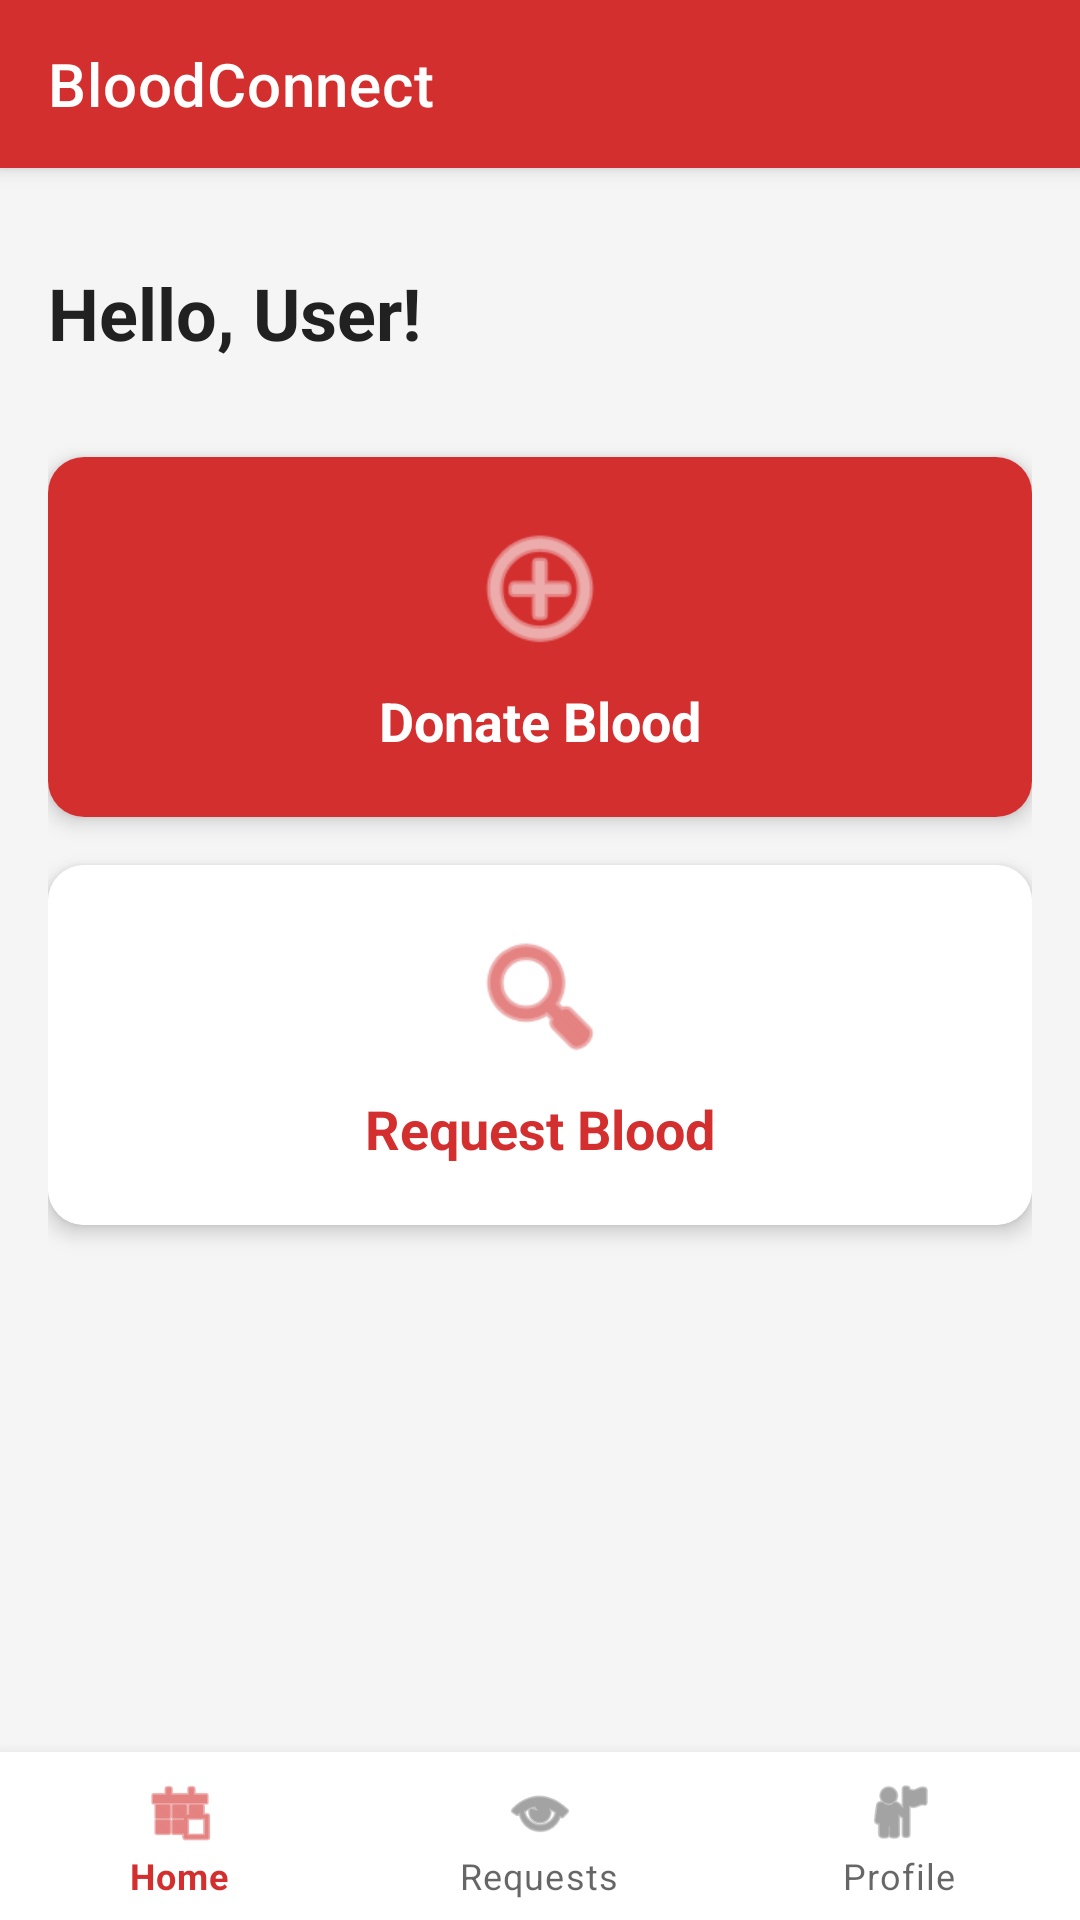

Point at icon controls on the screen. Image size 1080px x 1920px, points as point (x, y).
add: point (540, 588)
search: point (540, 996)
